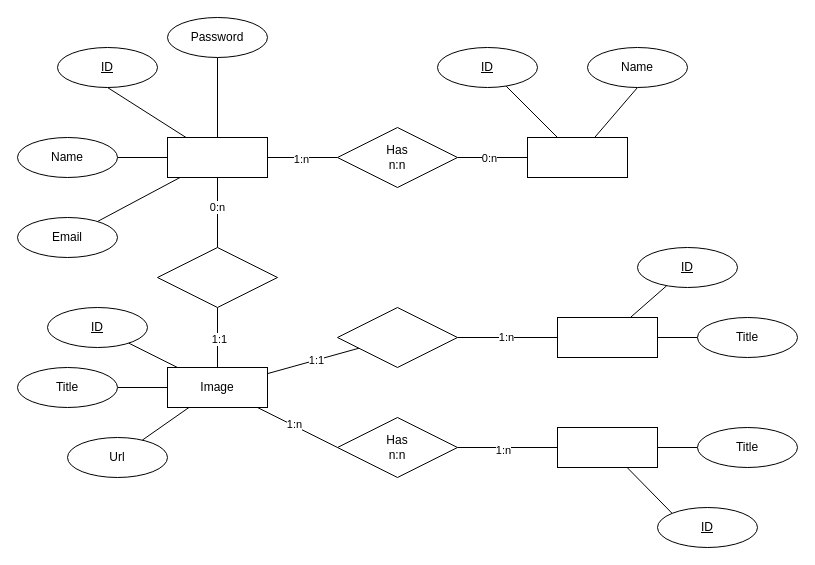
Some shapes in this 815 by 565 pixel diagram are drawn without their labels. The centre of each missing label's shape, as x and y in pixels:
"Can Upload 1:n" goes at [217,277].
"Category" goes at [607,337].
"Has 1:n" goes at [397,337].
"Role" goes at [577,157].
"Tag" goes at [607,447].
"User" goes at [217,157].
